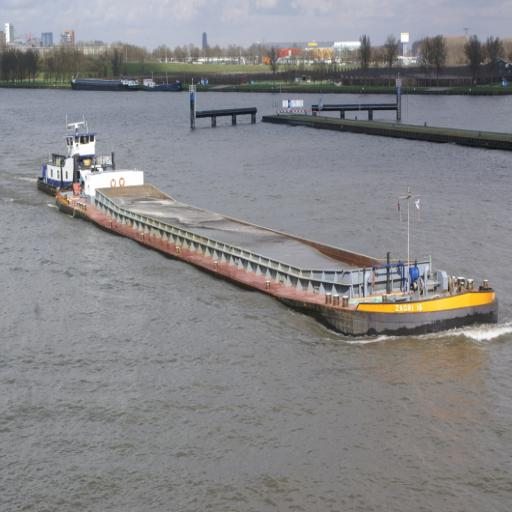tugboat: (35, 112, 122, 206)
